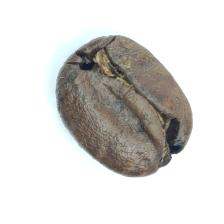NG: (74, 45, 182, 154)
